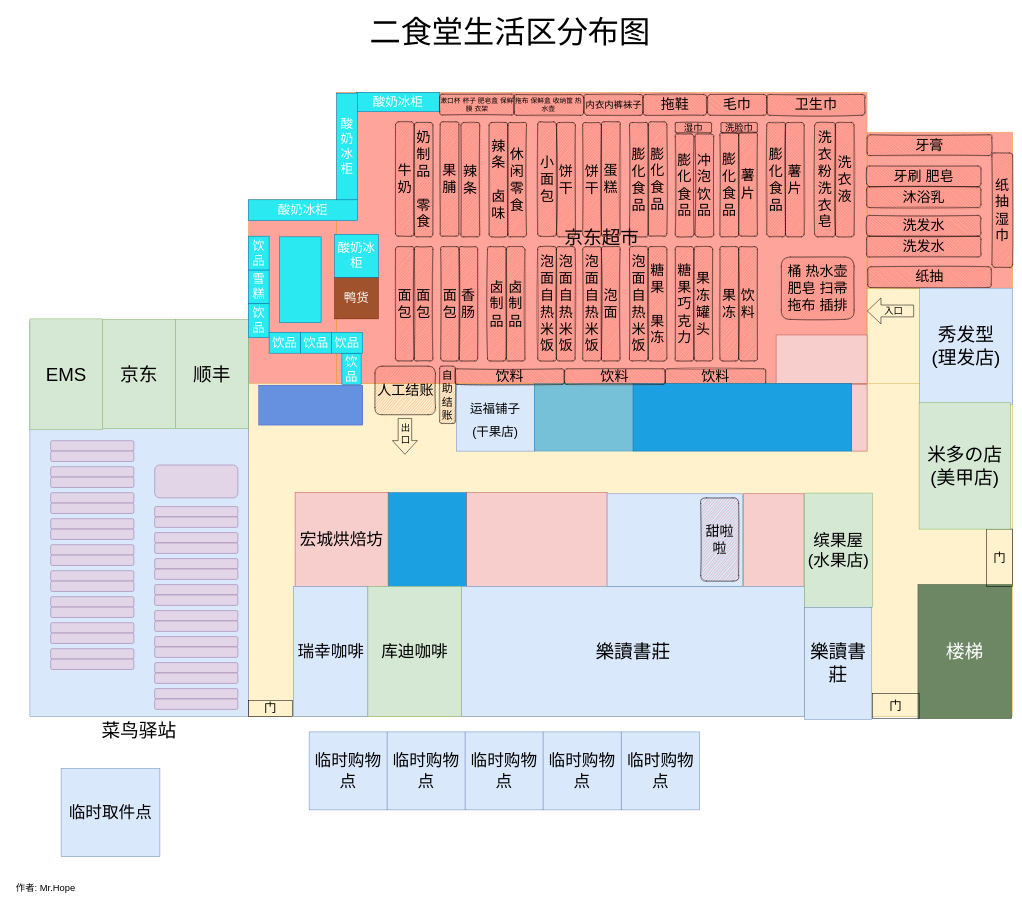
The diagram is 1022 pixels wide and 907 high, and some of its shapes have lost their labels. The centre of each missing label's shape, as x and y in pixels:
"中国移动 品胜电子产品维修" belongs at [583,417].
"学子图文" belongs at [536,539].
"新起点百货" belongs at [742,417].
"晨光文具" belongs at [427,539].
"正大茄子饭" belongs at [821,359].
"电子产品维修" belongs at [310,405].
"自助取件区" belongs at [196,481].
"酷乐冰城" belongs at [773,539].
"雪糕 冰激凌" belongs at [300,279].
